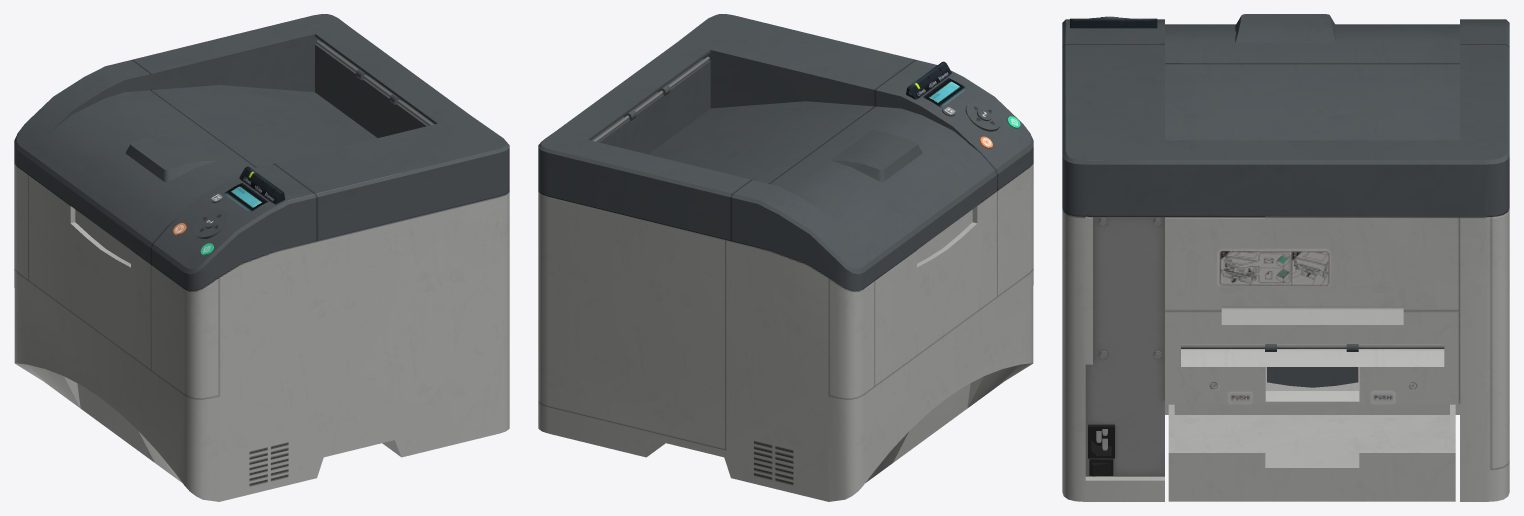
File: SM_Photocopier_01.fbx
3 views of the same model, side by side, from view 1: azimuth 30°, elevation 25°; view 2: azimuth 150°, elevation 25°; view 3: azimuth 270°, elevation 25° (orthographic). The views are drawn at different scales.
Parts seen in each view (by area): view 1: SM_Photocopier_01_LOD0; view 2: SM_Photocopier_01_LOD0; view 3: SM_Photocopier_01_LOD0.
Boxes of the visible parts, x1,y1,x2,y2 form: SM_Photocopier_01_LOD0: (14,14,509,501); SM_Photocopier_01_LOD0: (538,14,1033,501); SM_Photocopier_01_LOD0: (1062,14,1509,501).
Bounding box in the file's own units: 38.23 × 38.1 × 32.75.
